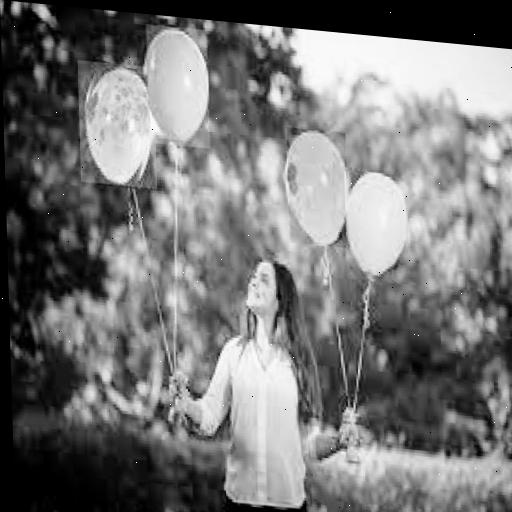balloon: (78, 60, 157, 189), (146, 24, 210, 149), (344, 171, 411, 284), (287, 127, 349, 248)
